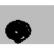correct: (5, 17, 32, 46)
